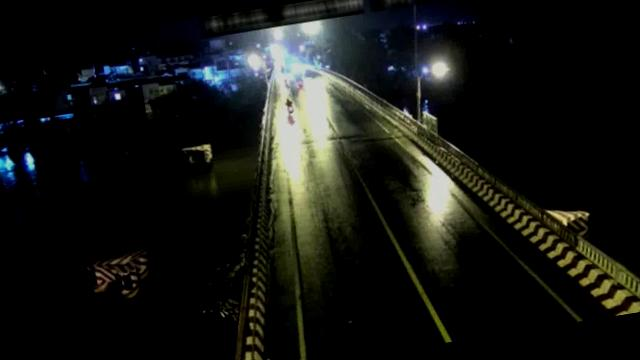Bike: (279, 93, 296, 114), (295, 76, 306, 88)
